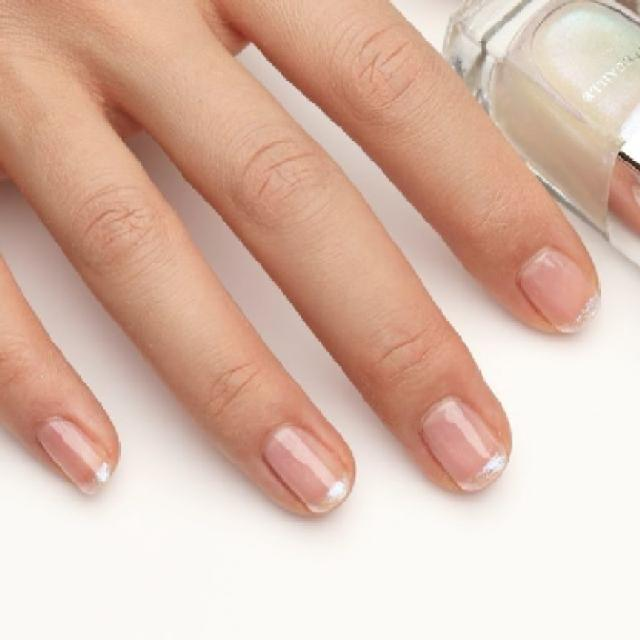Nail: (421, 396, 508, 491), (264, 425, 351, 512), (518, 248, 599, 332), (36, 418, 112, 493)
